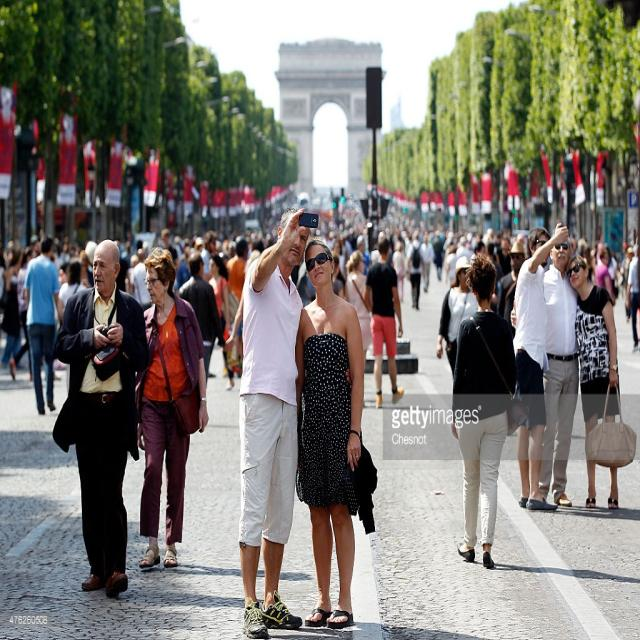body: (1, 426, 640, 639), (61, 180, 640, 287), (50, 236, 150, 600), (238, 207, 318, 639), (292, 234, 368, 634), (132, 245, 210, 574), (447, 254, 519, 572), (509, 227, 579, 508), (563, 252, 638, 512), (509, 221, 570, 515), (1, 232, 61, 394), (22, 233, 64, 418), (364, 236, 406, 411), (176, 252, 226, 388), (435, 254, 479, 382), (222, 237, 250, 384), (9, 245, 39, 382), (207, 253, 236, 392), (344, 249, 372, 376), (496, 241, 526, 341), (224, 248, 249, 366), (56, 260, 88, 326), (404, 230, 426, 312), (625, 243, 639, 351), (594, 248, 616, 306), (390, 239, 407, 305), (419, 234, 436, 294), (356, 233, 372, 276), (433, 234, 445, 280)
